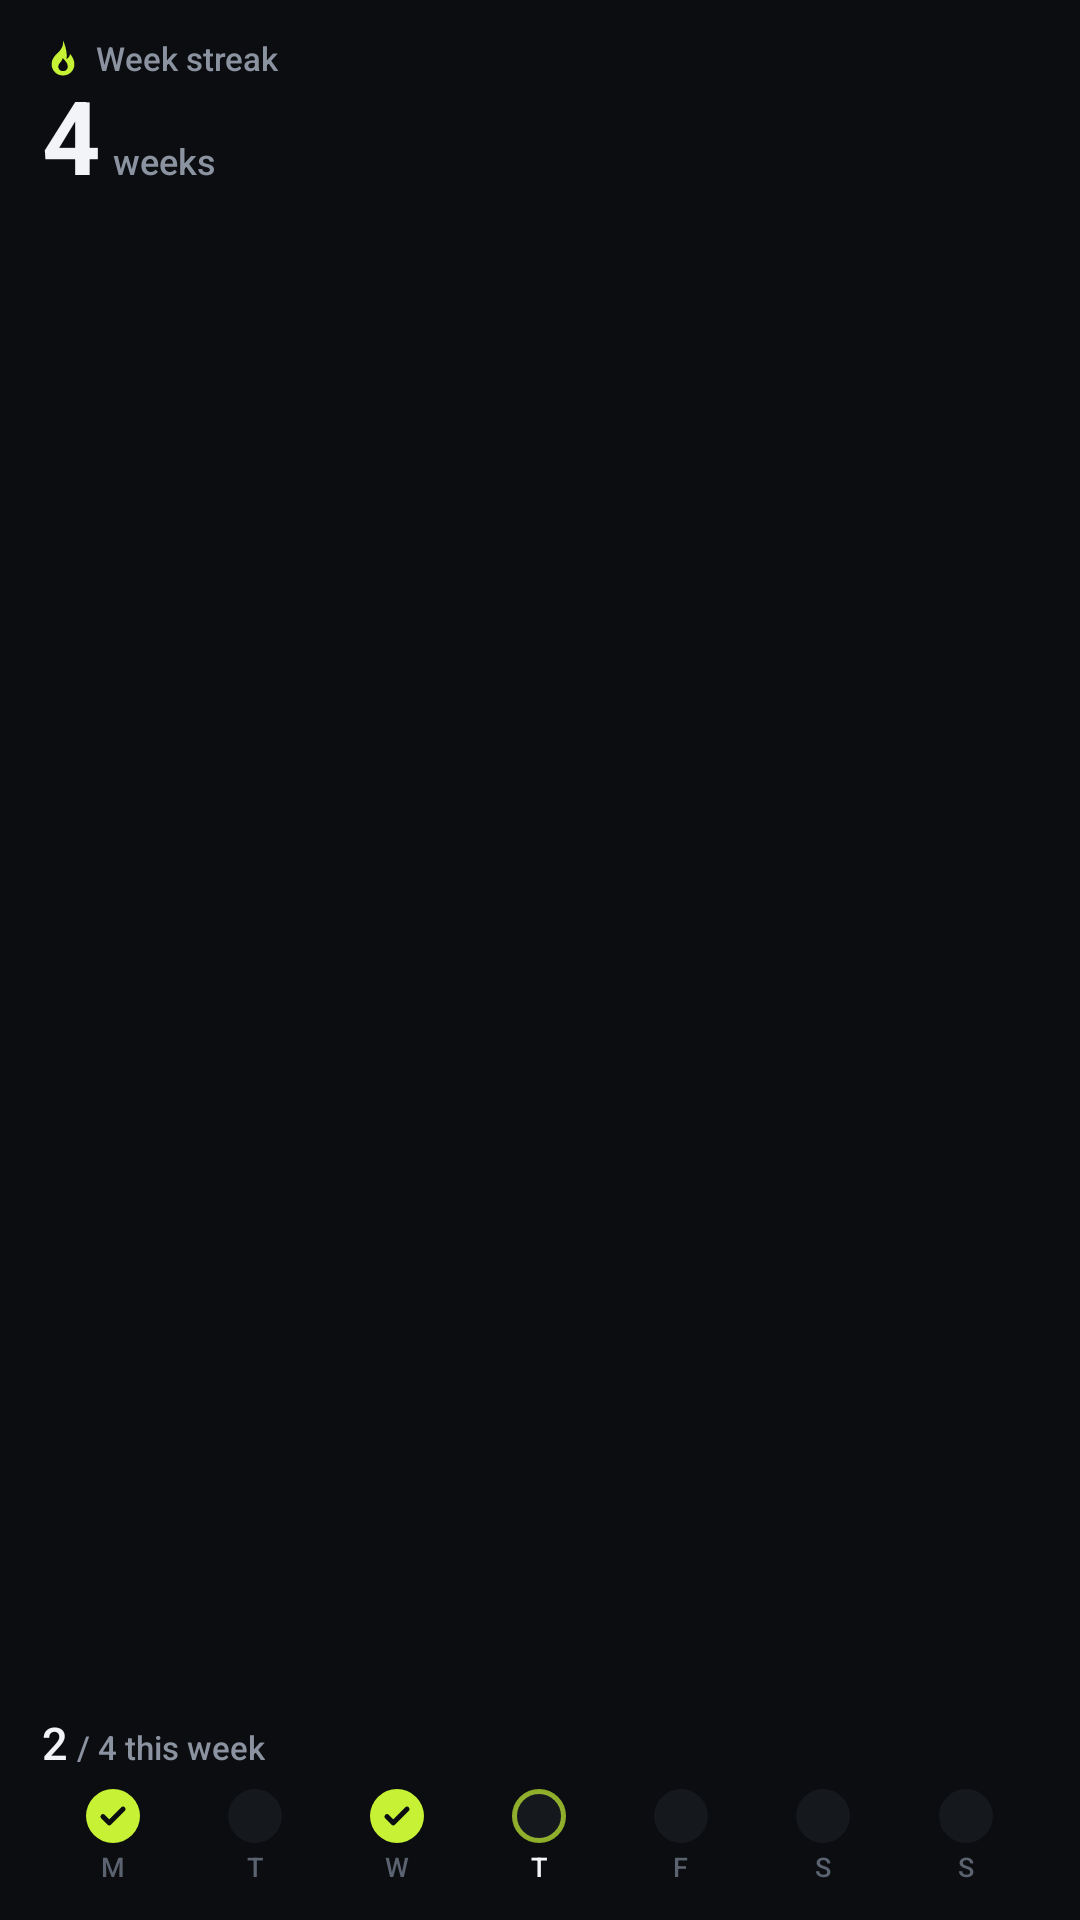

Named icons in this screenshot (1080x1920) and their bounding boxes, {"left": x1, "top": y1, "right": x2, "bottom": y2}:
widget dot on: {"left": 86, "top": 1789, "right": 140, "bottom": 1843}, {"left": 370, "top": 1789, "right": 424, "bottom": 1843}
widget dot today: {"left": 512, "top": 1789, "right": 566, "bottom": 1843}
widget flame: {"left": 51, "top": 41, "right": 75, "bottom": 76}
